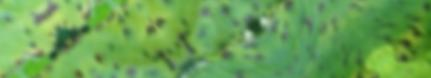Tomato Septoria leaf spot: (49, 0, 262, 78), (194, 25, 363, 78)
